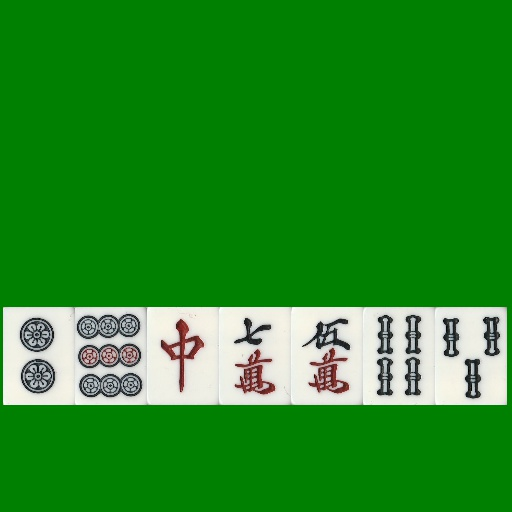2p: (3, 307, 75, 405)
3s: (435, 307, 507, 405)
4s: (363, 307, 435, 405)
5m: (291, 307, 363, 405)
7m: (219, 307, 291, 405)
9p: (75, 307, 147, 405)
tyun: (147, 307, 219, 405)
